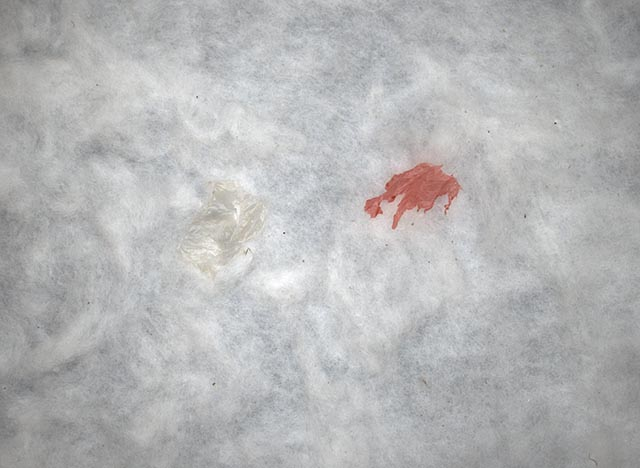plastic film: (176, 178, 265, 281), (364, 161, 463, 230)
